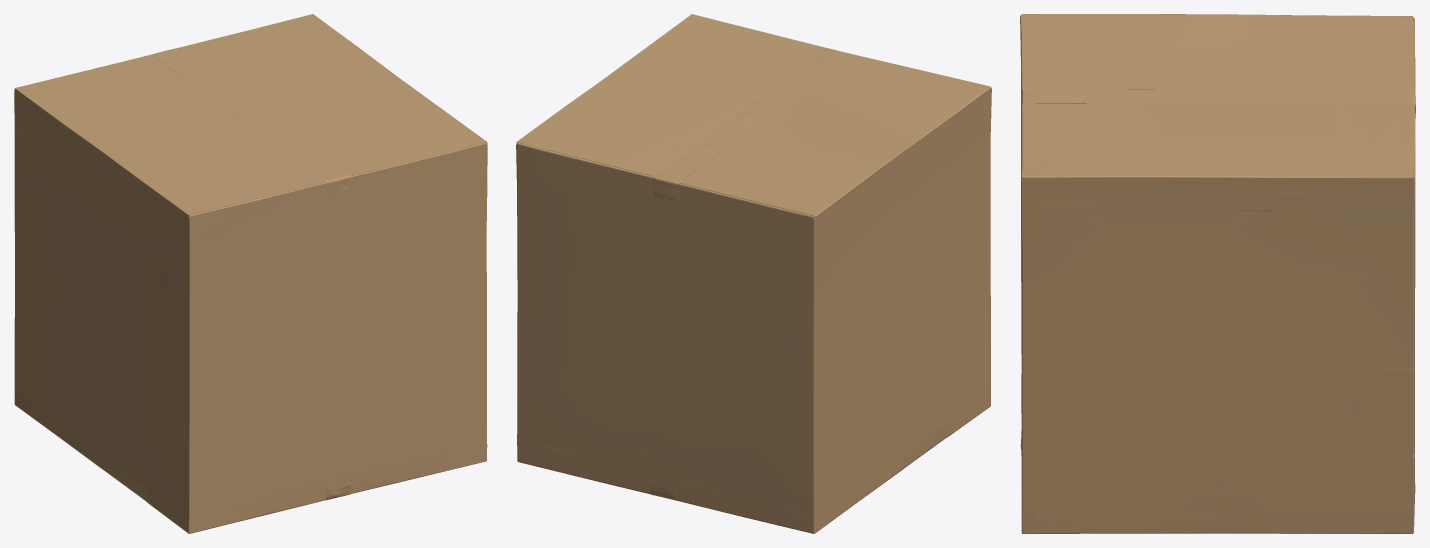
Rendered from box_corrugated_brown_b08.glb.
The picture shows the model from 3 angles, left to right: view 1: azimuth 30°, elevation 25°; view 2: azimuth 150°, elevation 25°; view 3: azimuth 270°, elevation 25°; orthographic projection. The views are drawn at different scales.
Parts seen in each view (by area): view 1: box_corrugated_brown_b08; view 2: box_corrugated_brown_b08; view 3: box_corrugated_brown_b08.
Boxes of the visible parts, left/top/right/bottom form: box_corrugated_brown_b08: left=14, top=14, right=487, bottom=533; box_corrugated_brown_b08: left=516, top=14, right=991, bottom=533; box_corrugated_brown_b08: left=1020, top=14, right=1415, bottom=533.
Size of the model in its own units: 0.2973 by 0.3037 by 0.3038.
